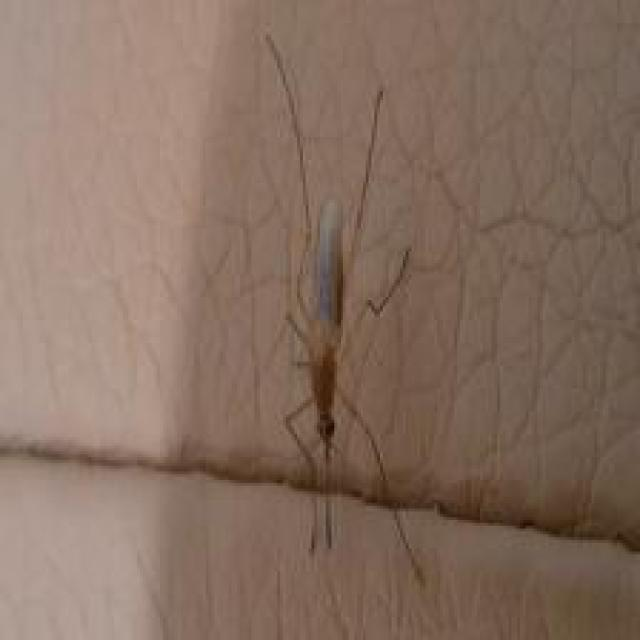Culex: (259, 30, 430, 587)
